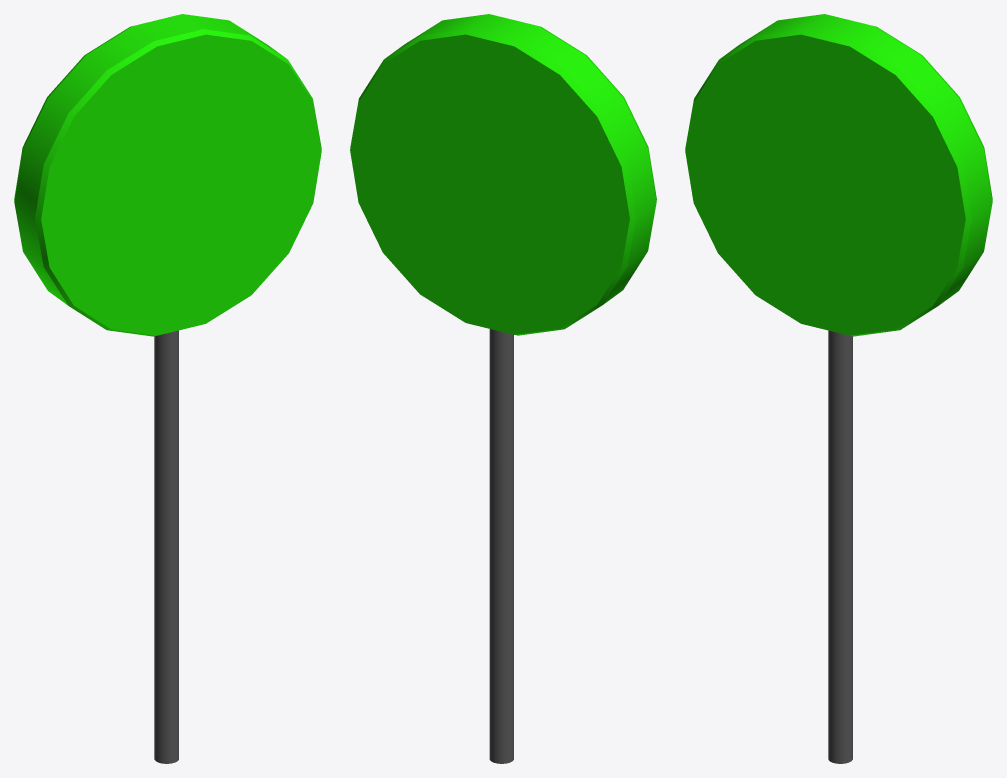
The model's file is lolipop green.FBX.
3 renders of one model, left to right at view 1: azimuth 30°, elevation 25°; view 2: azimuth 150°, elevation 25°; view 3: azimuth 330°, elevation 25°, orthographic.
Parts seen in each view (by area): view 1: Cylinder006, Cylinder005; view 2: Cylinder006, Cylinder005; view 3: Cylinder006, Cylinder005.
Boxes of the visible parts, x1=… form: Cylinder006: x1=14, y1=14, x2=321, y2=336; Cylinder005: x1=154, y1=330, x2=178, y2=763; Cylinder006: x1=350, y1=14, x2=656, y2=335; Cylinder005: x1=489, y1=329, x2=513, y2=763; Cylinder006: x1=685, y1=14, x2=992, y2=336; Cylinder005: x1=828, y1=330, x2=852, y2=763.
Size of the model in its own units: 16.39 by 40.01 by 2.67.
